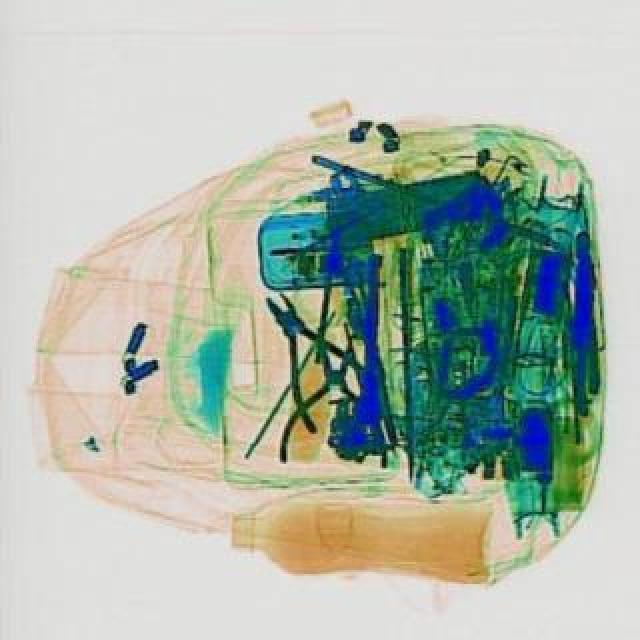wrench: (230, 274, 382, 434), (276, 318, 388, 466), (562, 230, 602, 414)
